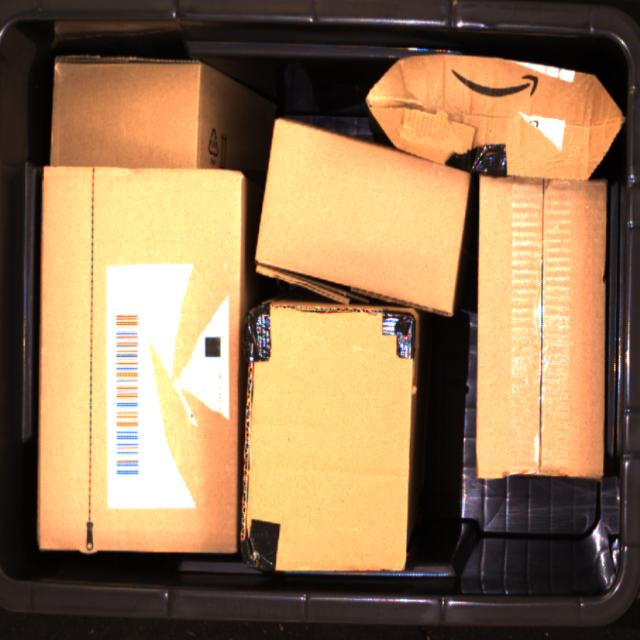Cardboard Box: (35, 161, 247, 557), (240, 293, 424, 575), (256, 119, 470, 314), (475, 170, 608, 481), (366, 52, 623, 178), (51, 56, 276, 175)
